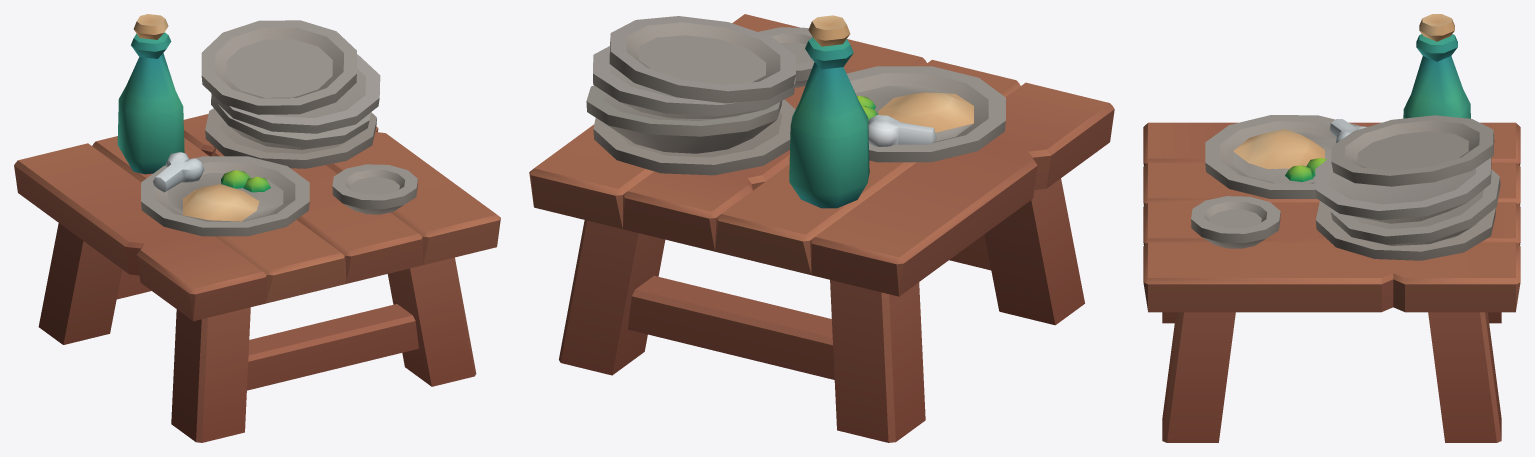
Rendered from table_medium_decorated_A.obj.
3 renders of one model, left to right at view 1: azimuth 30°, elevation 25°; view 2: azimuth 150°, elevation 25°; view 3: azimuth 270°, elevation 25°, orthographic. The views are drawn at different scales.
Visible parts, largest first — view 1: table_medium_decorated_A; view 2: table_medium_decorated_A; view 3: table_medium_decorated_A.
Boxes of the visible parts, x1,y1,x2,y2 form: table_medium_decorated_A: (14, 14, 500, 442); table_medium_decorated_A: (529, 14, 1114, 442); table_medium_decorated_A: (1143, 14, 1520, 442).
Size of the model in its own units: 2 by 1.89 by 2.
1 material, 1 textured.
